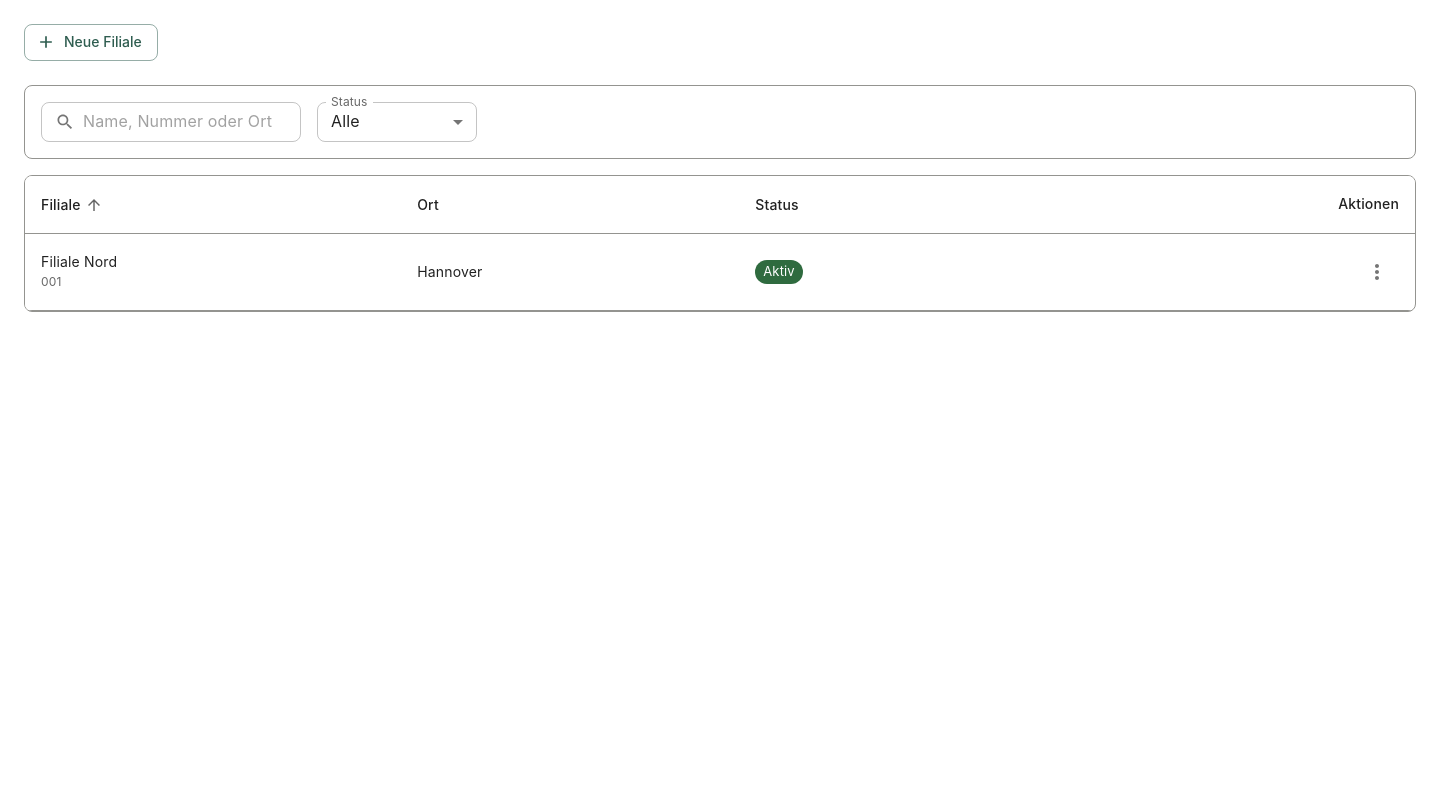
Test case: BranchMasterDataView › confirms and deactivates an active branch, then reloads the list
The image size is (1440, 810).
Click the button named "Weitere Aktionen für Filiale Nord": click(1377, 272) [1355,250,1399,294]
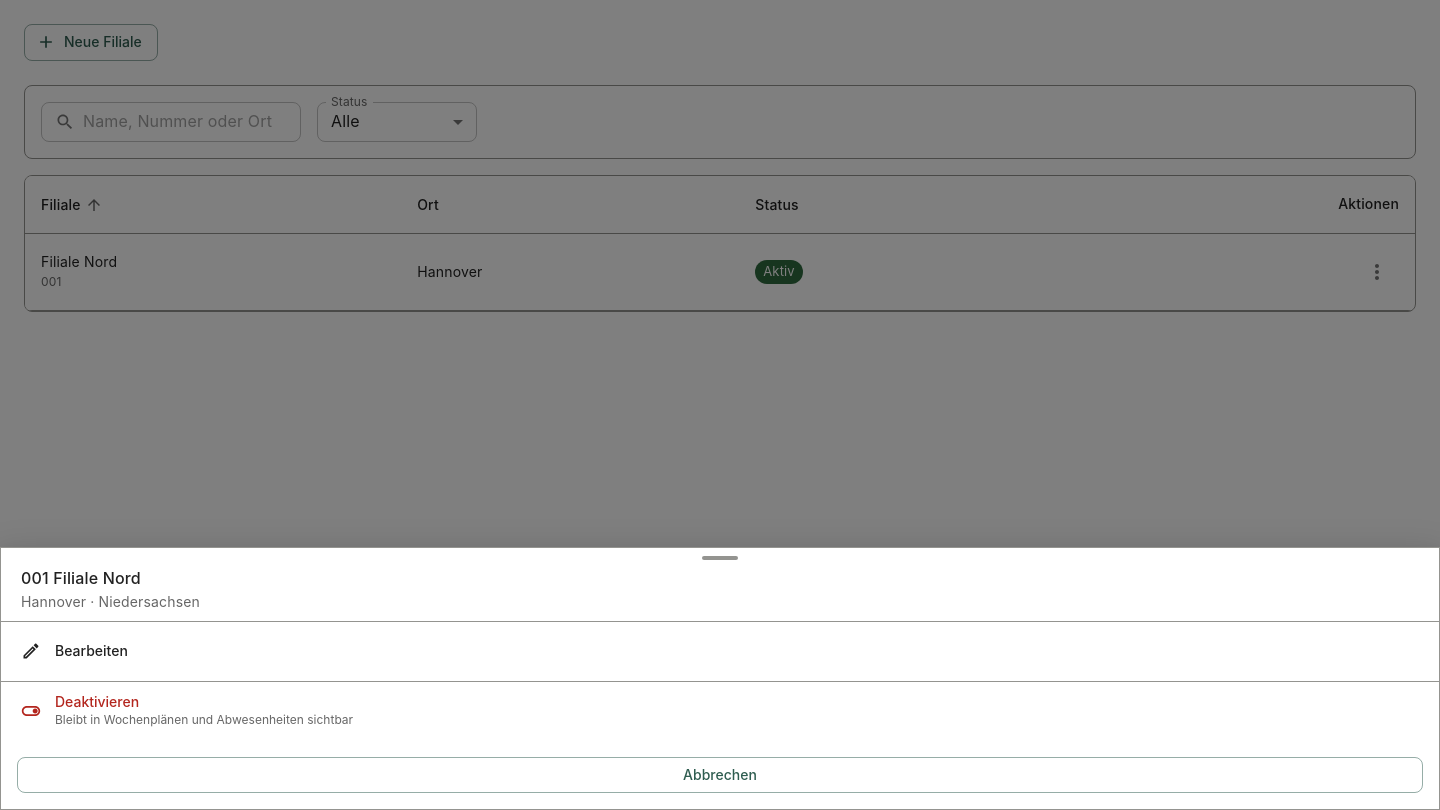
Click the button "Deaktivieren": click(97, 702) [1,680,1439,740]
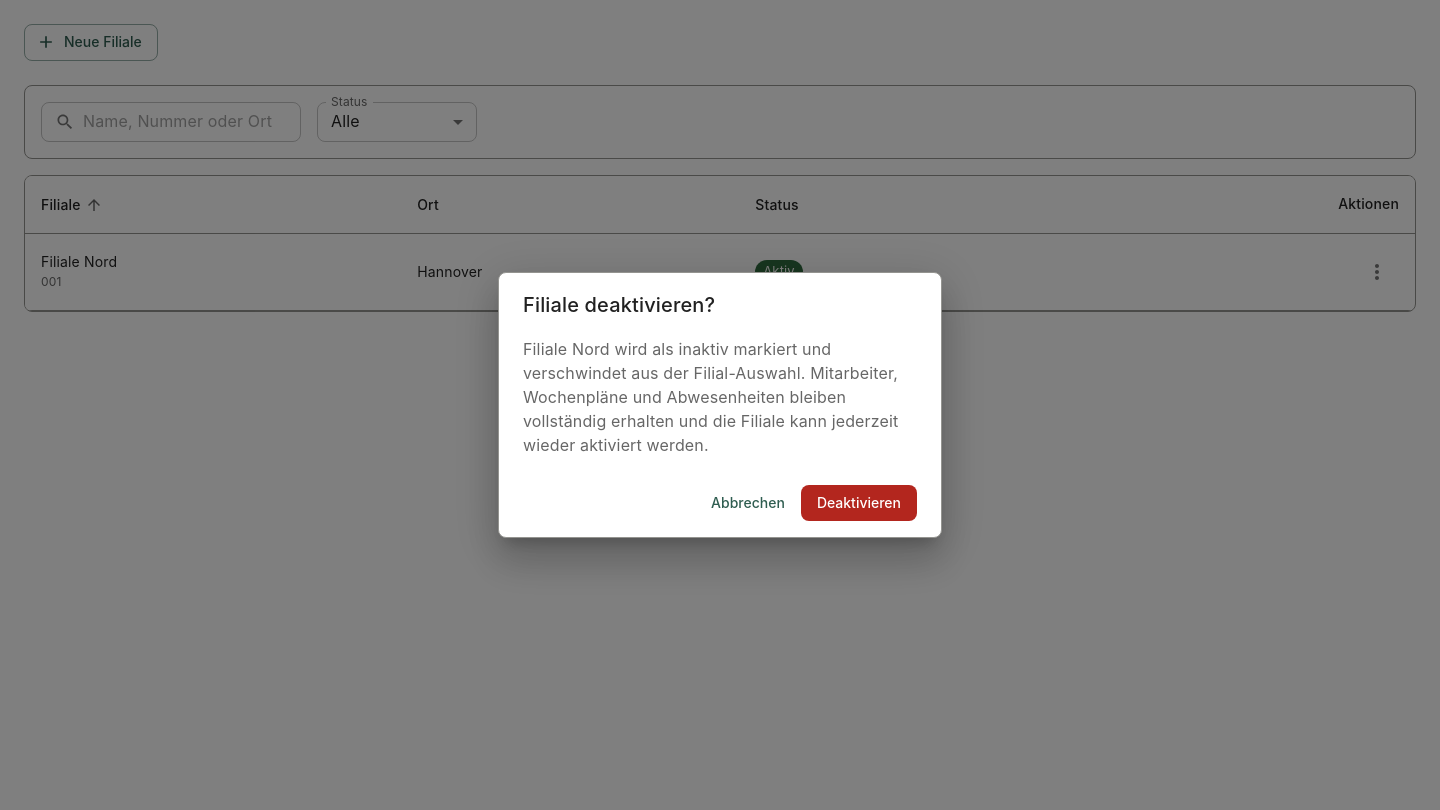
expect the heading "Filiale deaktivieren?" is shown: met, box [523,293,715,317]
expect the text "Filiale Nord wird als inaktiv markiert und verschwindet aus der Filial-Auswahl. Mitarbeiter, Wochenpläne und Abwesenheit" is shown: met, box [523,339,898,455]
Click the button "Deaktivieren": click(859, 503) [801,485,917,521]
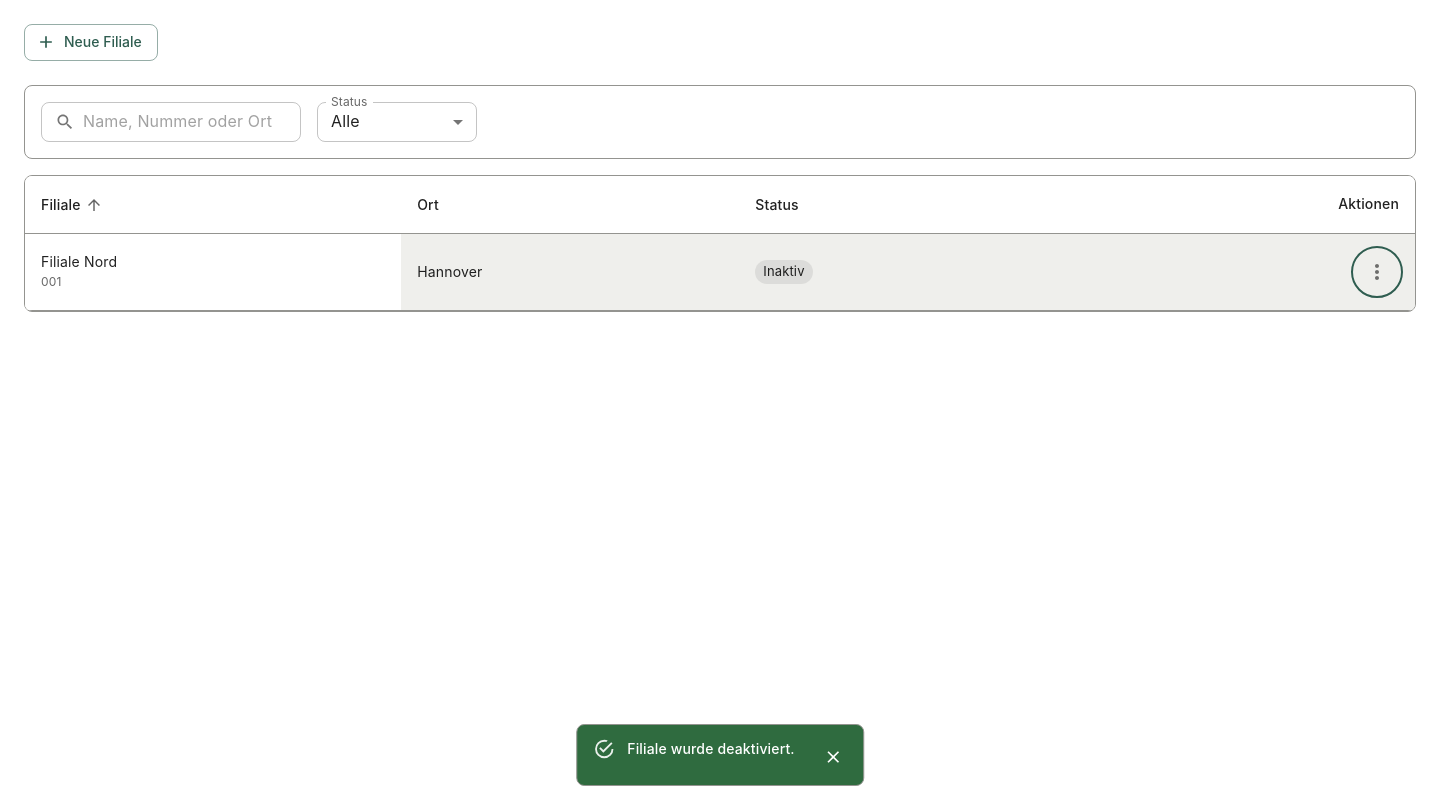
expect the text "Inaktiv" is shown: met, box [763,263,805,279]
expect the text "Filiale wurde deaktiviert." is shown: met, box [627,740,795,757]
